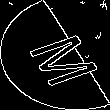M_NE: (12, 24, 98, 86)
